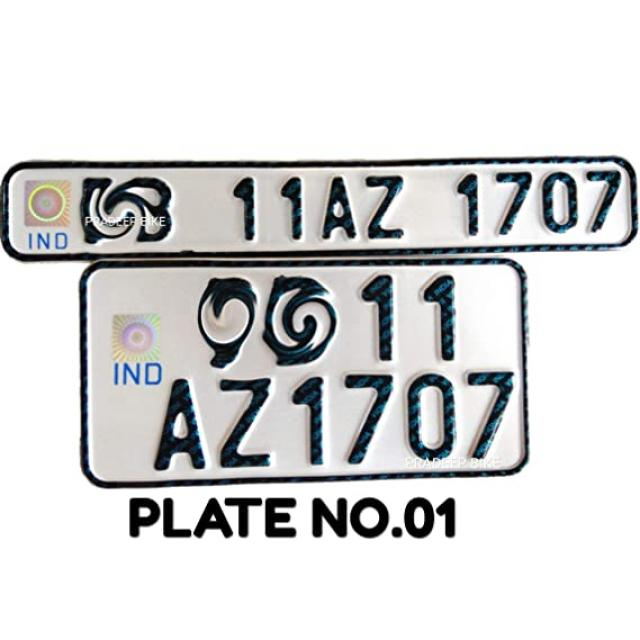plate: (70, 265, 537, 489), (8, 156, 640, 256)
